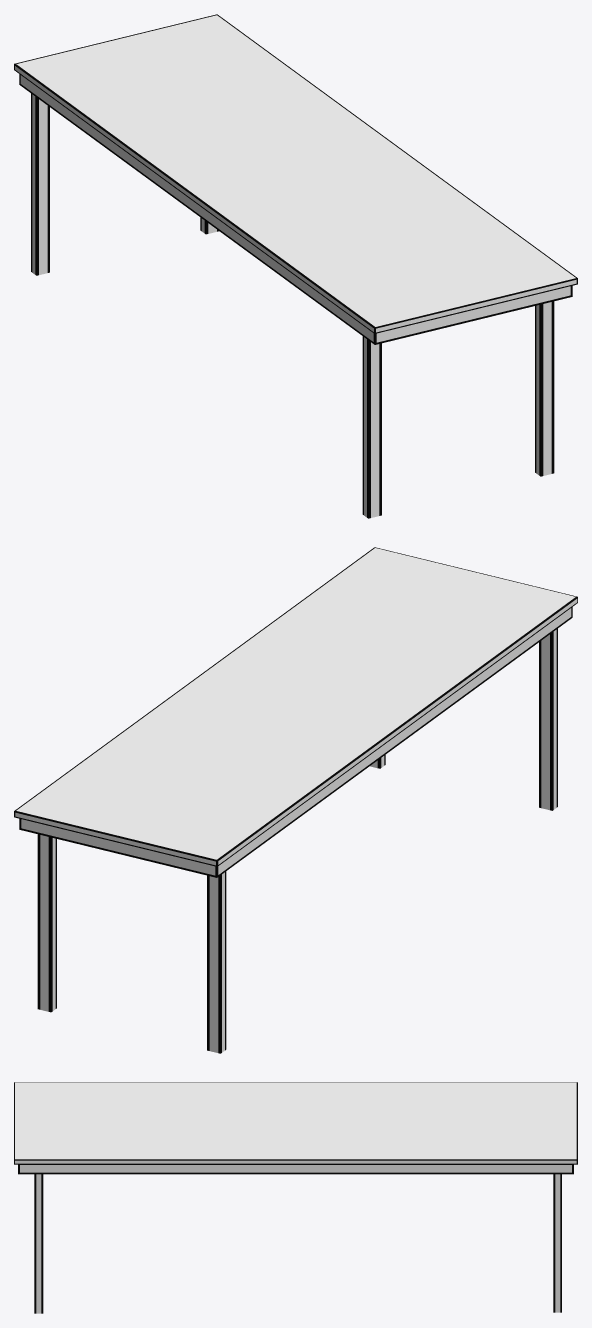
File: mesa3D.fbx
3 renders of one model, top to bottom at view 1: azimuth 30°, elevation 25°; view 2: azimuth 150°, elevation 25°; view 3: azimuth 270°, elevation 25°, orthographic. The views are drawn at different scales.
Parts seen in each view (by area): view 1: Cube.001; view 2: Cube.001; view 3: Cube.001.
Part boxes in pixels (x1,y1,x2,y2): Cube.001: (14, 14, 577, 518); Cube.001: (14, 547, 577, 1053); Cube.001: (14, 1082, 577, 1313).
Size of the model in its own units: 110 by 105 by 339.
1 material, 1 textured.
